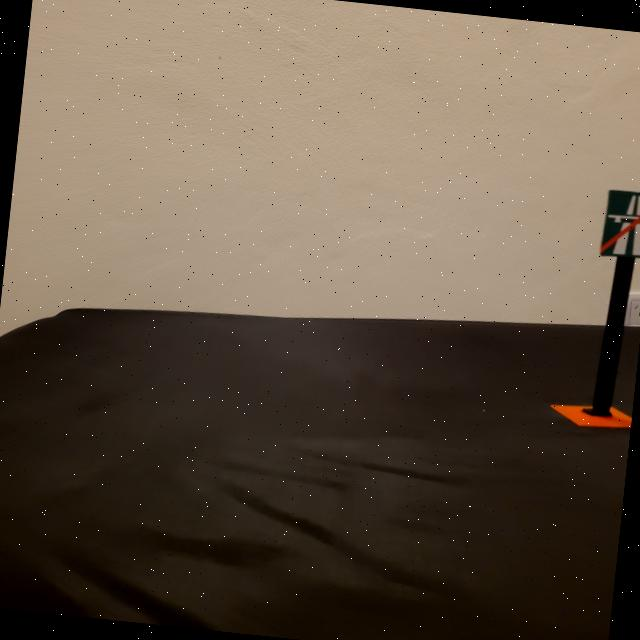highway_exit: (598, 186, 640, 260)
